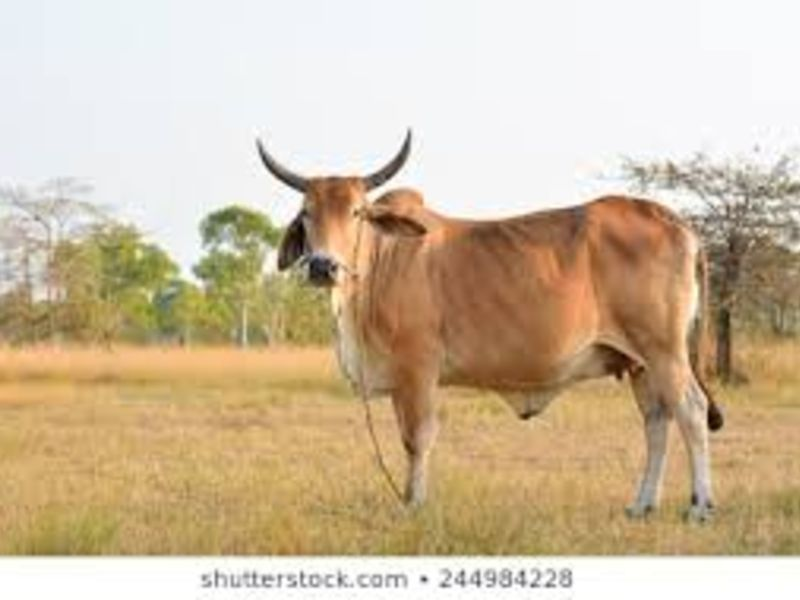cow: (251, 131, 735, 544)
